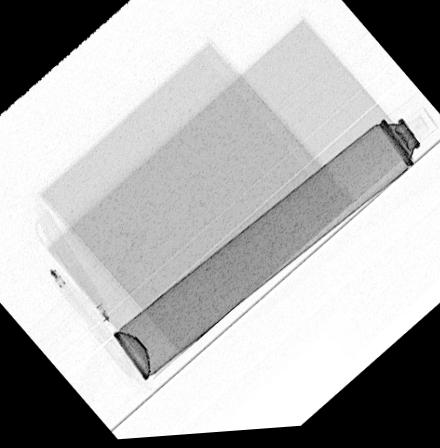Sprayer: (113, 98, 440, 382)
